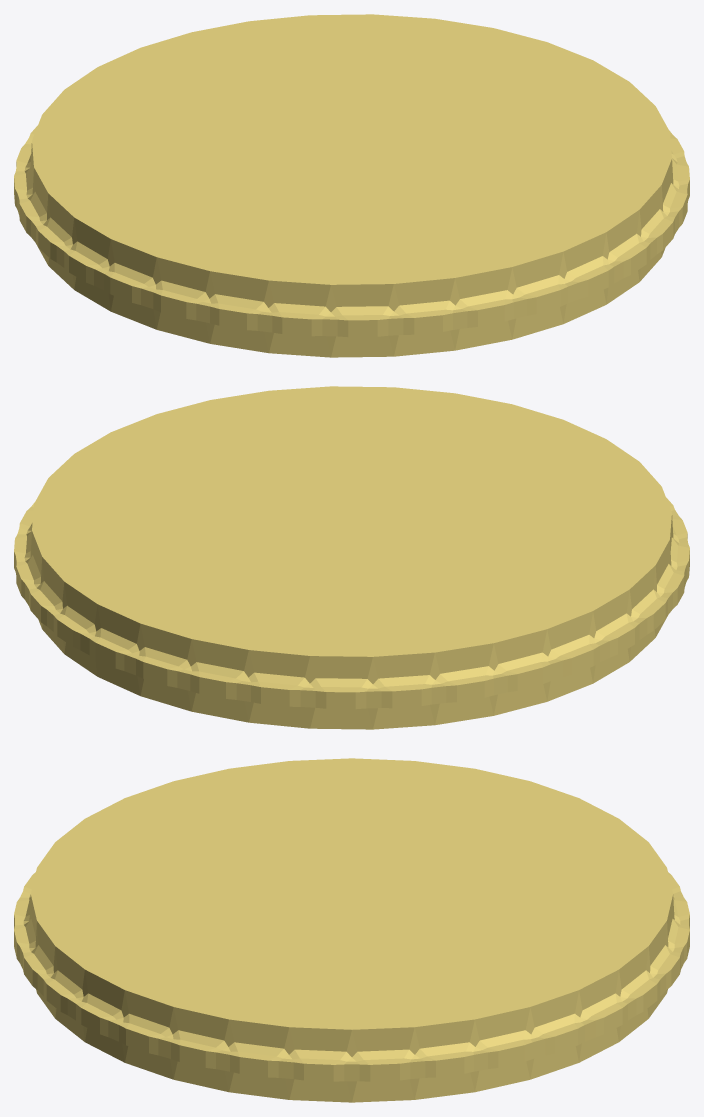
The model's file is Moneda.fbx.
The picture shows the model from 3 angles, top to bottom: view 1: azimuth 30°, elevation 25°; view 2: azimuth 150°, elevation 25°; view 3: azimuth 270°, elevation 25°; orthographic projection.
Visible parts, largest first — view 1: Moneda; view 2: Moneda; view 3: Moneda.
Boxes of the visible parts, x1,y1,x2,y2 form: Moneda: (14, 14, 689, 357); Moneda: (14, 386, 689, 729); Moneda: (14, 758, 689, 1102).
Size of the model in its own units: 109 by 13 by 109.
